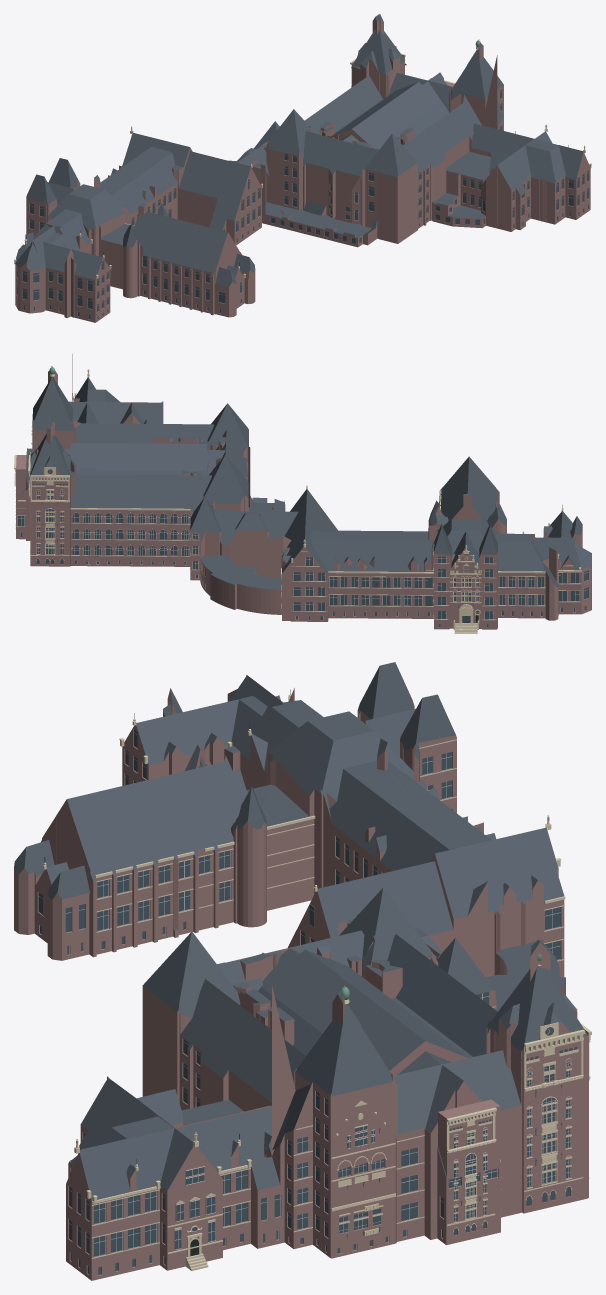
The model's file is tropenmuseum.glb.
The picture shows the model from 3 angles, top to bottom: view 1: azimuth 30°, elevation 25°; view 2: azimuth 150°, elevation 25°; view 3: azimuth 270°, elevation 25°; orthographic projection. The views are drawn at different scales.
Parts seen in each view (by area): view 1: tropenmuseum; view 2: tropenmuseum; view 3: tropenmuseum.
Part boxes in pixels (x1,y1,x2,y2): tropenmuseum: (14, 14, 591, 322); tropenmuseum: (14, 354, 591, 633); tropenmuseum: (14, 662, 591, 1280).
Bounding box in the file's own units: 190 × 45.28 × 93.47.
